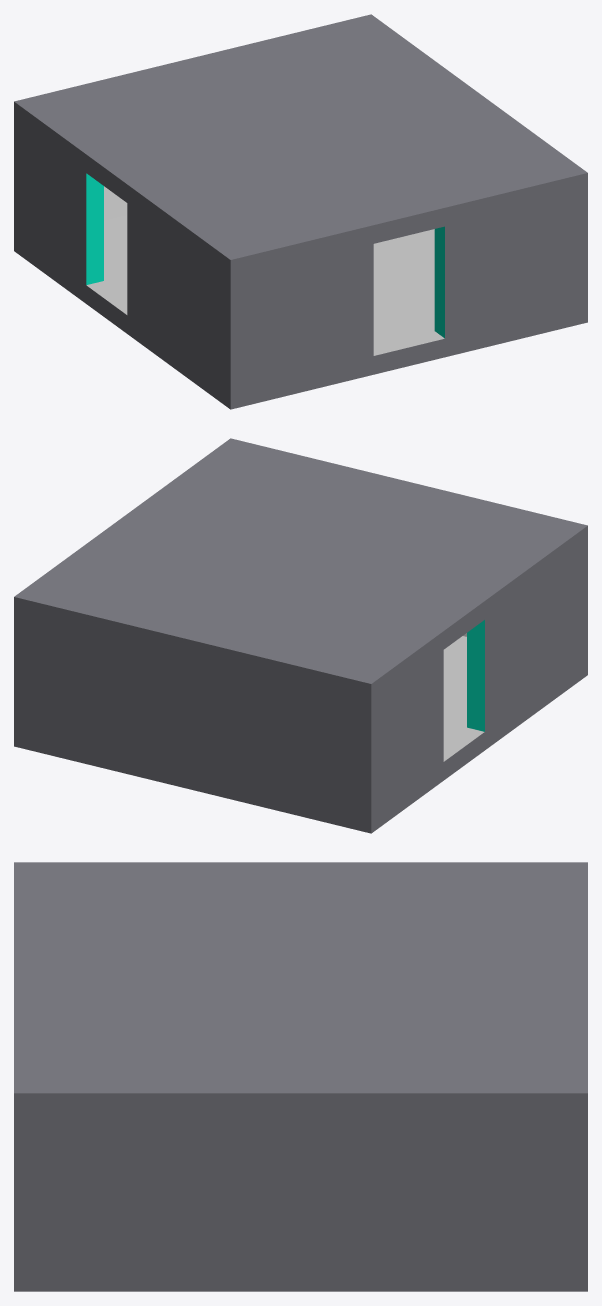
File: Godot Test Room 4.gltf
The picture shows the model from 3 angles, top to bottom: view 1: azimuth 30°, elevation 25°; view 2: azimuth 150°, elevation 25°; view 3: azimuth 270°, elevation 25°; orthographic projection. The views are drawn at different scales.
Parts seen in each view (by area): view 1: root001, root002; view 2: root001, root002; view 3: root001, root002.
Boxes of the visible parts, x1=… form: root001: x1=14, y1=14, x2=587, y2=278; root002: x1=14, y1=120, x2=587, y2=409; root001: x1=14, y1=438, x2=587, y2=702; root002: x1=14, y1=544, x2=587, y2=833; root001: x1=14, y1=862, x2=587, y2=1118; root002: x1=14, y1=1118, x2=587, y2=1291.
Bounding box in the file's own units: 10 × 4 × 10.5.
